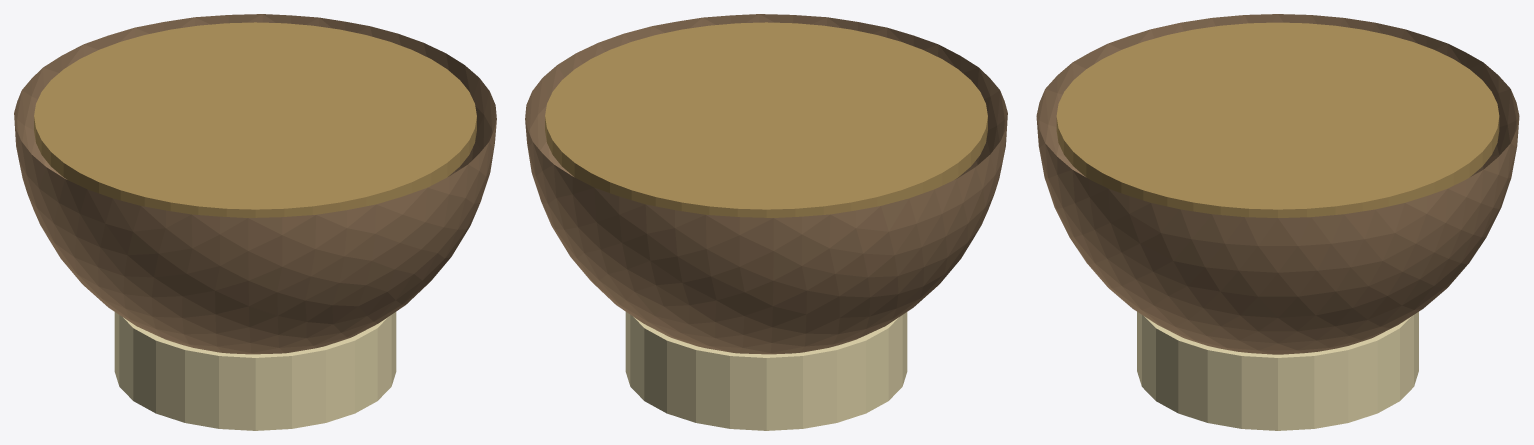
Rendered from kawa_daun.glb.
3 renders of one model, left to right at view 1: azimuth 30°, elevation 25°; view 2: azimuth 150°, elevation 25°; view 3: azimuth 270°, elevation 25°, orthographic.
Parts seen in each view (by area): view 1: kawa, tempurung, tatakan_bambu; view 2: kawa, tempurung, tatakan_bambu; view 3: kawa, tempurung, tatakan_bambu.
Boxes of the visible parts, box(x1,y1,x2,y2) form: kawa: box(34, 22, 476, 217); tempurung: box(14, 14, 496, 354); tatakan_bambu: box(114, 312, 396, 430); kawa: box(545, 22, 987, 217); tempurung: box(525, 14, 1007, 354); tatakan_bambu: box(625, 312, 907, 430); kawa: box(1056, 22, 1499, 217); tempurung: box(1036, 14, 1519, 354); tatakan_bambu: box(1137, 312, 1418, 430).
Size of the model in its own units: 0.12 by 0.07 by 0.12.
